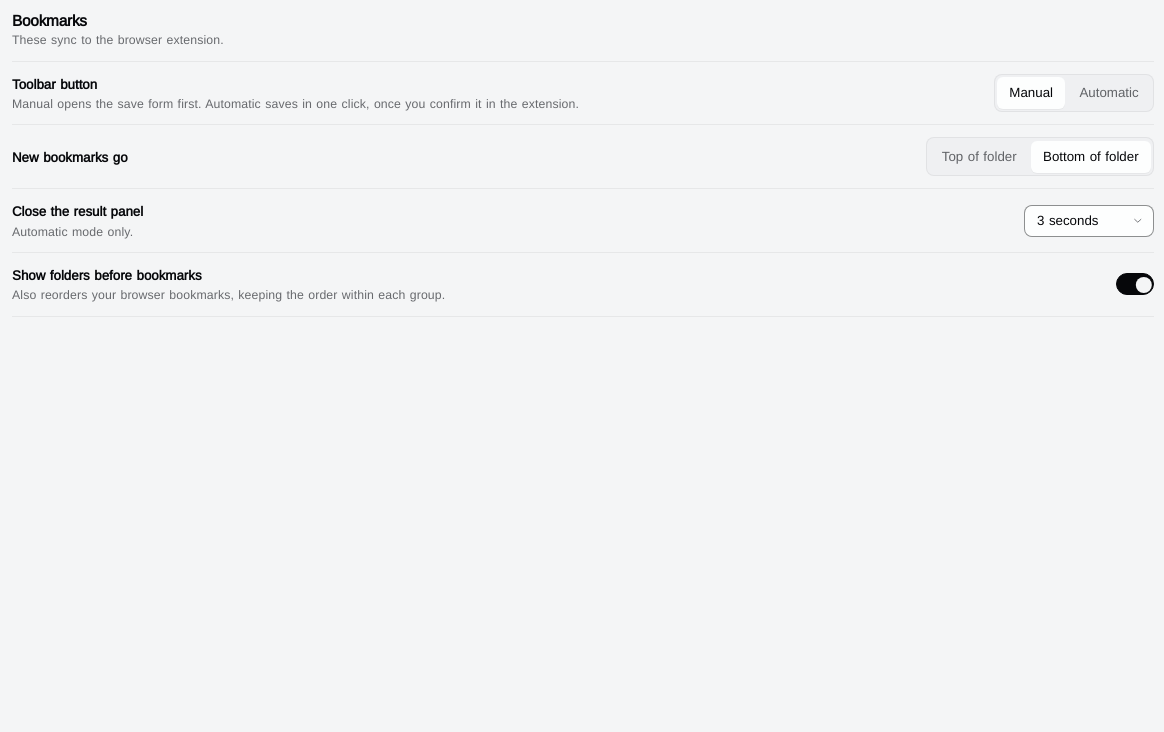
Test: renders a conflict with human-readable values, not raw booleans
Click the switch at (1135,284), box x1=1116 y1=273 x2=1154 y2=295
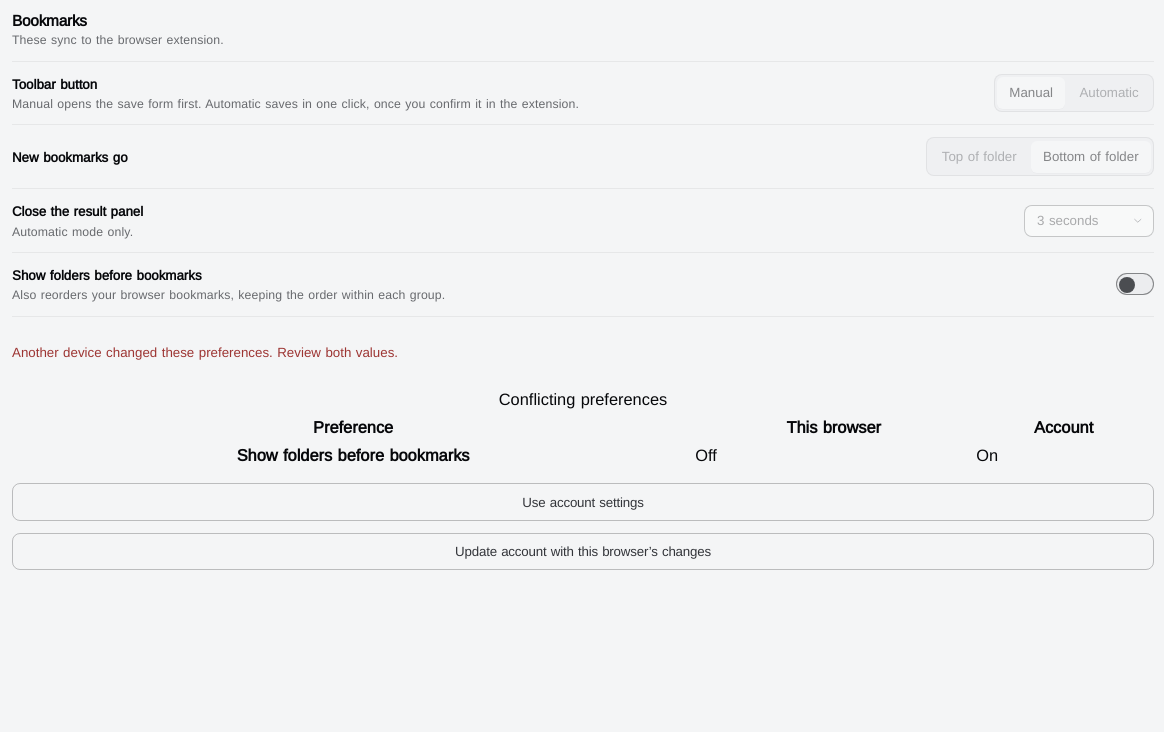
Now the row "Show folders before bookmarks Off On" is shown, box x1=14 y1=442 x2=1152 y2=469
